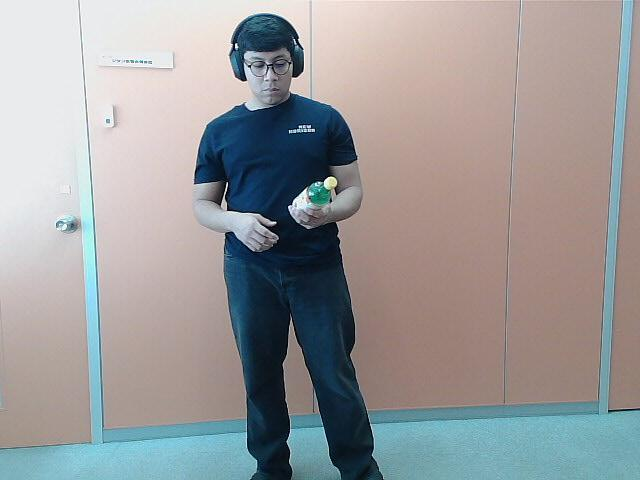Lemon_sapporo: (285, 174, 340, 222)
